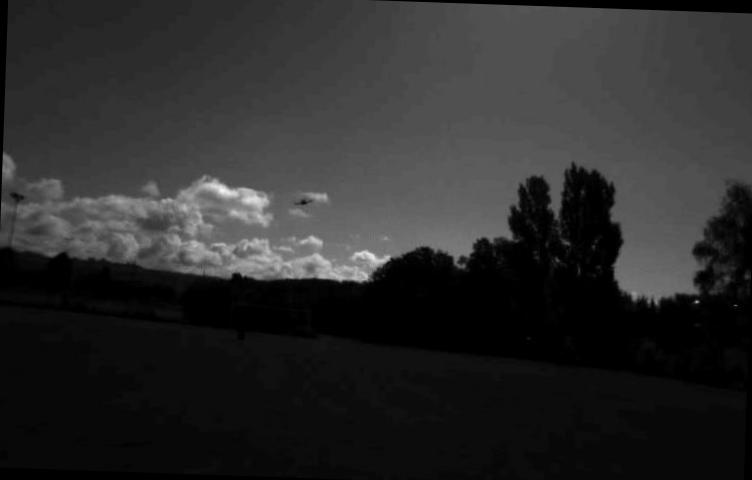drone: (292, 194, 314, 208)
